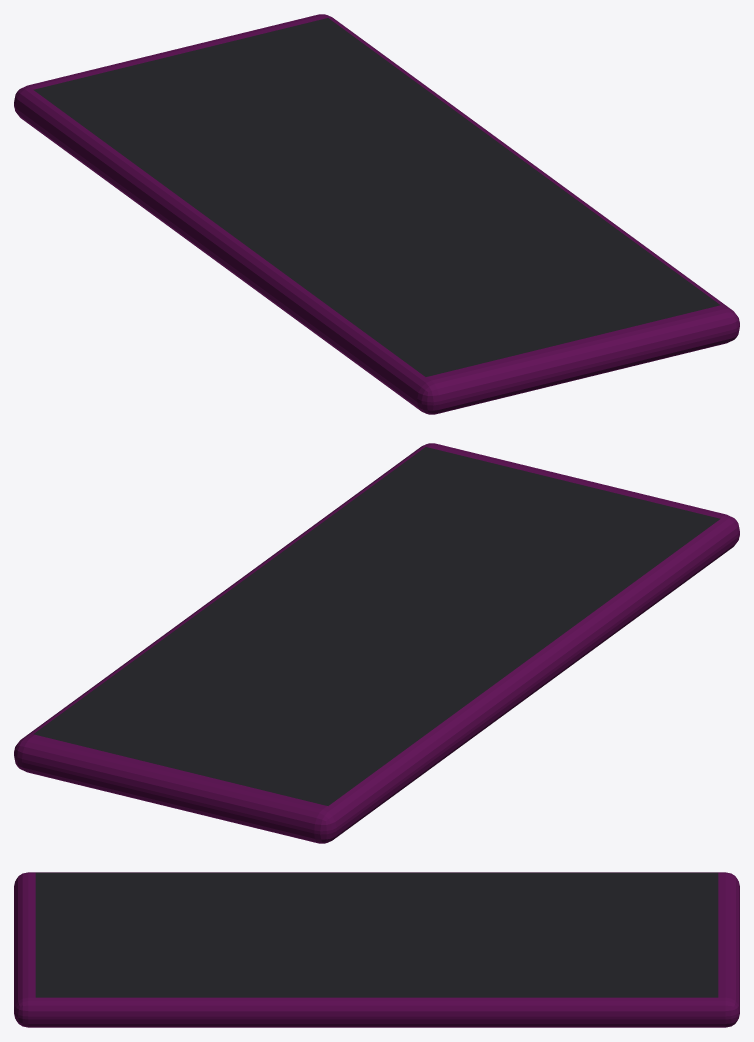
The model's file is vivo-x-model-20-mid-range-2021.glb.
The picture shows the model from 3 angles, top to bottom: view 1: azimuth 30°, elevation 25°; view 2: azimuth 150°, elevation 25°; view 3: azimuth 270°, elevation 25°; orthographic projection. The views are drawn at different scales.
Visible parts, largest first — view 1: Phone_Screen, Phone_Body; view 2: Phone_Screen, Phone_Body; view 3: Phone_Screen, Phone_Body.
Boxes of the visible parts, x1,y1,x2,y2 form: Phone_Screen: (33,18,720,376); Phone_Body: (14,14,739,414); Phone_Screen: (33,447,720,805); Phone_Body: (14,443,739,843); Phone_Screen: (35,872,718,997); Phone_Body: (14,872,739,1027).
Bounding box in the file's own units: 0.0733 × 0.0073 × 0.1654.
